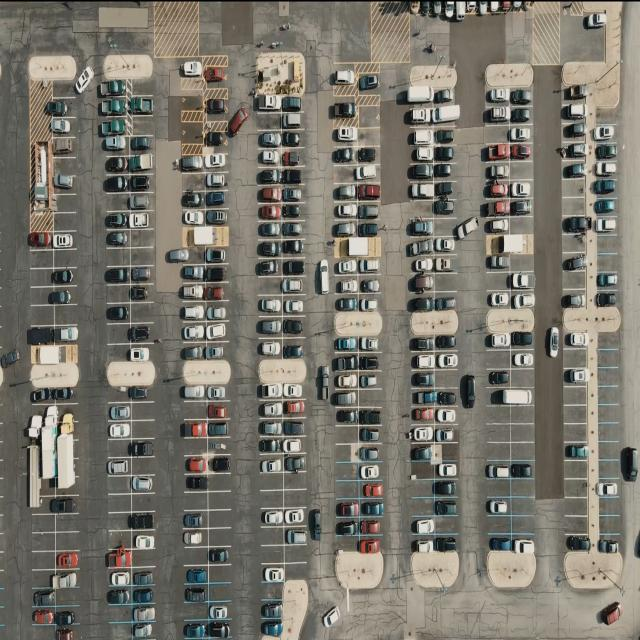space-empty: (560, 196, 588, 216), (506, 406, 534, 426), (30, 305, 54, 327), (484, 349, 510, 369), (561, 234, 587, 254), (130, 229, 156, 249), (488, 406, 514, 426), (408, 201, 435, 220), (55, 305, 79, 326), (106, 322, 130, 343), (595, 235, 620, 255), (258, 276, 283, 296), (562, 178, 588, 197), (54, 588, 80, 607), (182, 438, 208, 457), (436, 370, 462, 389), (181, 400, 207, 419), (184, 601, 210, 620), (256, 112, 283, 130), (485, 480, 512, 498), (357, 106, 380, 127), (562, 270, 586, 290), (130, 115, 154, 135), (563, 349, 587, 369), (563, 406, 587, 426), (564, 479, 588, 499), (108, 529, 132, 549), (336, 424, 360, 444), (52, 78, 76, 98), (335, 480, 359, 500), (564, 496, 588, 516), (30, 286, 54, 306), (105, 248, 130, 267), (487, 516, 512, 535), (106, 493, 131, 512), (512, 479, 537, 498), (131, 247, 156, 266), (563, 386, 588, 405), (106, 476, 131, 495), (131, 492, 156, 511), (262, 527, 287, 546), (510, 253, 535, 272), (486, 442, 511, 461), (511, 497, 536, 516), (411, 460, 436, 479), (487, 423, 512, 442), (510, 424, 536, 442), (180, 124, 203, 144), (208, 490, 231, 510), (132, 400, 155, 420), (53, 193, 77, 212), (106, 439, 130, 458), (208, 564, 232, 583), (484, 125, 508, 144), (53, 158, 77, 177), (132, 420, 156, 439), (410, 496, 434, 515), (184, 492, 208, 511), (184, 547, 208, 566), (31, 532, 55, 551), (356, 388, 380, 407), (564, 423, 588, 442), (56, 531, 80, 550), (131, 77, 155, 96), (434, 218, 458, 237), (509, 215, 533, 234), (32, 515, 56, 534), (32, 552, 56, 571), (356, 128, 380, 147), (208, 511, 232, 530), (262, 489, 286, 508), (207, 583, 231, 602), (207, 438, 231, 457), (435, 516, 460, 534), (105, 284, 130, 302), (180, 173, 205, 191), (105, 192, 130, 210), (486, 273, 511, 291), (511, 368, 536, 386), (511, 443, 536, 461), (564, 516, 589, 534), (30, 269, 55, 287), (130, 304, 152, 324), (598, 442, 620, 462), (597, 332, 620, 351), (335, 461, 358, 480), (56, 514, 79, 533), (207, 474, 230, 493), (411, 479, 434, 498), (564, 460, 588, 478), (262, 546, 286, 564), (282, 471, 306, 489), (30, 250, 54, 268), (261, 472, 285, 490), (132, 550, 156, 568), (108, 604, 132, 622), (596, 256, 620, 274), (106, 385, 130, 403), (208, 528, 232, 546), (598, 405, 620, 424), (284, 544, 306, 563), (598, 423, 620, 442), (597, 366, 619, 385), (334, 165, 356, 184), (598, 385, 620, 404), (283, 489, 305, 508), (596, 106, 618, 125), (54, 212, 77, 230), (510, 162, 533, 180), (107, 513, 130, 531), (132, 457, 155, 475), (435, 274, 458, 292), (263, 584, 286, 602), (181, 94, 204, 112), (512, 516, 535, 534), (284, 562, 307, 580), (33, 569, 54, 588), (599, 459, 620, 478), (438, 443, 459, 462), (55, 249, 77, 267), (597, 498, 619, 516), (597, 349, 619, 367), (109, 624, 133, 640), (599, 516, 620, 534), (107, 346, 130, 362), (336, 536, 358, 552), (336, 445, 356, 462), (32, 626, 56, 640), (357, 94, 380, 108)
space-occupied: (490, 385, 534, 405), (101, 134, 129, 156), (99, 97, 128, 118), (98, 116, 128, 136), (405, 105, 433, 126), (204, 94, 228, 118), (434, 104, 461, 125), (590, 178, 618, 198), (408, 237, 436, 257), (590, 198, 618, 218), (486, 494, 511, 516), (410, 180, 436, 201), (49, 97, 75, 118), (485, 458, 511, 479), (409, 273, 435, 294), (49, 118, 76, 138), (561, 215, 589, 234), (204, 64, 228, 86), (204, 126, 228, 148), (335, 64, 357, 88), (258, 316, 283, 337), (259, 294, 284, 315), (29, 230, 54, 251), (485, 87, 511, 107), (561, 141, 587, 161), (592, 215, 618, 235), (102, 156, 128, 176), (355, 444, 381, 464), (29, 325, 55, 345), (101, 78, 128, 97), (565, 533, 592, 552), (484, 199, 511, 218), (181, 58, 203, 81), (282, 316, 305, 338), (336, 98, 358, 121), (129, 95, 153, 116), (282, 294, 306, 315), (406, 88, 434, 106), (562, 252, 587, 272), (129, 155, 154, 175), (51, 137, 76, 157), (105, 266, 130, 286), (105, 304, 130, 324), (130, 265, 155, 285), (562, 288, 587, 308), (106, 402, 131, 422), (184, 527, 209, 547), (260, 454, 285, 474), (258, 338, 283, 358), (183, 620, 208, 640), (485, 161, 510, 181), (181, 419, 207, 438), (562, 124, 588, 143), (181, 383, 207, 402), (560, 161, 586, 180), (485, 332, 511, 351), (256, 259, 282, 278), (333, 388, 359, 407), (333, 371, 359, 390), (410, 443, 436, 462), (561, 104, 587, 123), (179, 282, 205, 301), (54, 605, 80, 624), (409, 254, 435, 273), (484, 215, 510, 234), (546, 327, 564, 354), (564, 442, 588, 462), (106, 419, 130, 439), (282, 274, 306, 294), (436, 350, 460, 370), (204, 152, 228, 172), (205, 170, 229, 190), (334, 126, 358, 146), (106, 229, 130, 249), (487, 252, 511, 272), (56, 324, 80, 344), (205, 320, 229, 340), (434, 290, 458, 310), (280, 149, 304, 169), (184, 474, 208, 494), (109, 567, 133, 587), (204, 264, 228, 284), (563, 332, 588, 351), (511, 349, 536, 368), (484, 106, 509, 125), (592, 125, 617, 144), (262, 509, 287, 528), (180, 190, 205, 209), (511, 460, 536, 479), (255, 94, 280, 113), (356, 182, 381, 201), (484, 179, 509, 198), (412, 387, 437, 406), (180, 303, 205, 322), (358, 481, 383, 500), (485, 143, 510, 162), (409, 145, 434, 164), (511, 273, 536, 292), (411, 352, 436, 371), (107, 550, 132, 569), (52, 285, 77, 304), (409, 128, 434, 147), (486, 288, 511, 307), (104, 210, 130, 228), (334, 293, 360, 311), (334, 354, 360, 372), (410, 294, 436, 312), (358, 73, 380, 94), (282, 338, 304, 359), (53, 174, 76, 194), (263, 562, 286, 582), (107, 456, 130, 476), (54, 231, 77, 251), (597, 534, 620, 554), (334, 144, 357, 164), (206, 302, 229, 322), (283, 508, 306, 528), (208, 600, 231, 620), (595, 288, 618, 308), (55, 494, 78, 514), (130, 210, 154, 229), (130, 136, 154, 155), (563, 366, 587, 385), (411, 516, 435, 535), (183, 511, 207, 530), (178, 153, 202, 172), (510, 179, 534, 198), (184, 565, 208, 584), (258, 130, 282, 149), (258, 147, 282, 166), (512, 332, 536, 351), (55, 569, 79, 588), (205, 282, 229, 301), (410, 217, 434, 236), (260, 418, 284, 437), (435, 533, 459, 552), (281, 219, 305, 238), (356, 408, 380, 427), (335, 275, 359, 294), (180, 322, 204, 341), (335, 408, 359, 427), (488, 369, 512, 388), (334, 202, 358, 221), (410, 424, 434, 443), (357, 534, 381, 553), (512, 533, 536, 552), (132, 513, 156, 532), (409, 164, 434, 182), (334, 182, 359, 200), (260, 438, 285, 456), (258, 220, 283, 238), (104, 174, 129, 192), (358, 518, 383, 536), (432, 480, 457, 498), (488, 534, 513, 552), (511, 290, 536, 308), (202, 246, 227, 264), (130, 322, 151, 343), (511, 89, 534, 108), (131, 475, 154, 494), (510, 125, 533, 144), (207, 418, 230, 437), (435, 236, 458, 255), (282, 453, 305, 472), (33, 608, 56, 627), (205, 189, 228, 208), (207, 455, 230, 474), (510, 198, 533, 217), (356, 202, 379, 221), (282, 239, 305, 258), (54, 383, 77, 402), (282, 398, 305, 417), (436, 407, 459, 426), (207, 621, 230, 640), (132, 566, 155, 585), (510, 142, 534, 160), (130, 192, 154, 210), (336, 498, 360, 516), (336, 336, 360, 354), (56, 552, 80, 570), (182, 456, 206, 474), (108, 587, 132, 605), (434, 127, 458, 145), (258, 240, 282, 258), (130, 174, 154, 192), (594, 162, 618, 180), (259, 203, 283, 221), (358, 498, 382, 516), (280, 203, 304, 221), (412, 408, 436, 426), (594, 142, 618, 160), (355, 165, 379, 183), (432, 88, 456, 106), (411, 371, 435, 389), (181, 209, 205, 227), (260, 399, 284, 417), (280, 168, 304, 186), (434, 459, 458, 477), (181, 342, 205, 360), (412, 534, 436, 552), (180, 265, 204, 283), (204, 342, 228, 360), (357, 462, 382, 479), (209, 547, 231, 566), (356, 145, 378, 164), (438, 388, 460, 407), (357, 371, 379, 390), (132, 439, 154, 458), (263, 600, 285, 619), (207, 402, 229, 421), (358, 424, 380, 443), (130, 344, 152, 363), (133, 531, 156, 549), (434, 145, 457, 163), (337, 518, 360, 536), (510, 106, 533, 124), (281, 382, 304, 400), (435, 256, 458, 274), (184, 585, 207, 603), (133, 587, 156, 605), (284, 526, 307, 544), (259, 184, 282, 202), (32, 386, 55, 404), (435, 497, 458, 515), (436, 425, 459, 443), (358, 276, 381, 294), (410, 336, 434, 353), (258, 383, 282, 400), (258, 168, 282, 185), (562, 86, 586, 103), (280, 185, 304, 202), (434, 164, 456, 182), (436, 335, 458, 353), (130, 284, 152, 302), (54, 268, 76, 286), (282, 259, 304, 277), (356, 256, 378, 274), (283, 436, 305, 454), (206, 208, 228, 226), (132, 622, 154, 640), (358, 295, 380, 313), (357, 353, 379, 371), (337, 259, 359, 277), (262, 621, 284, 639), (596, 273, 619, 290), (133, 604, 156, 621), (281, 112, 302, 130), (281, 130, 302, 148), (283, 418, 304, 436), (598, 481, 619, 499), (208, 384, 230, 401), (435, 201, 457, 218), (334, 219, 356, 236), (355, 222, 378, 238), (436, 180, 456, 198), (358, 337, 379, 354), (131, 385, 152, 402), (33, 590, 53, 607), (282, 96, 302, 113), (55, 626, 74, 640)
